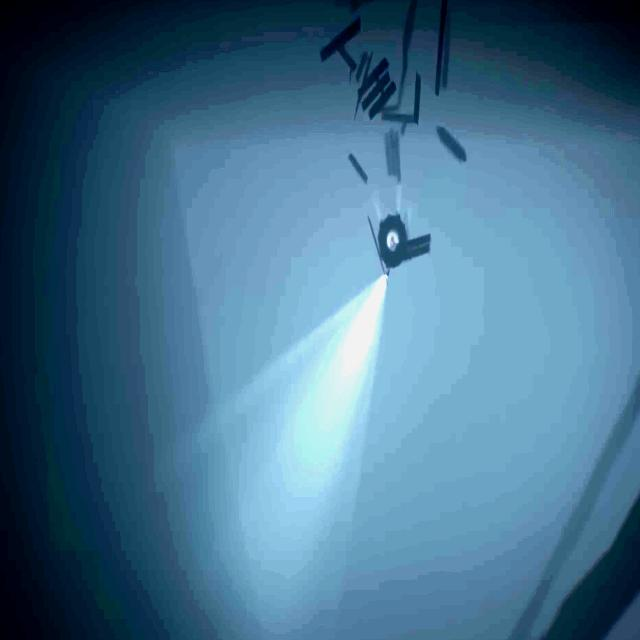submarine: (378, 214, 407, 277)
